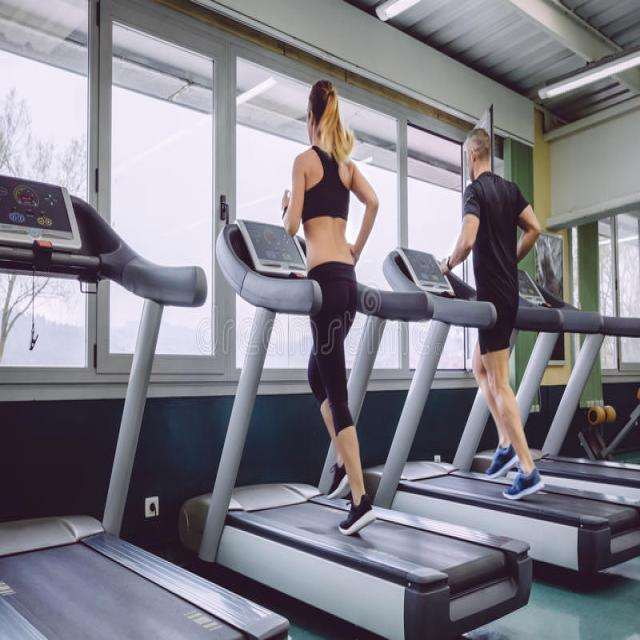running: (283, 77, 381, 540), (444, 126, 547, 509)
